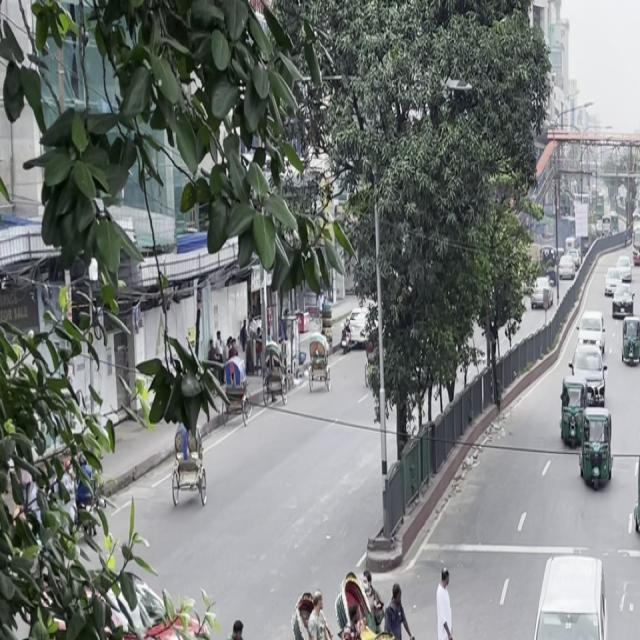car: (509, 537, 627, 640), (572, 340, 610, 405), (602, 276, 634, 320)
rickshaw: (574, 404, 618, 498), (555, 371, 590, 453), (628, 440, 640, 554)
